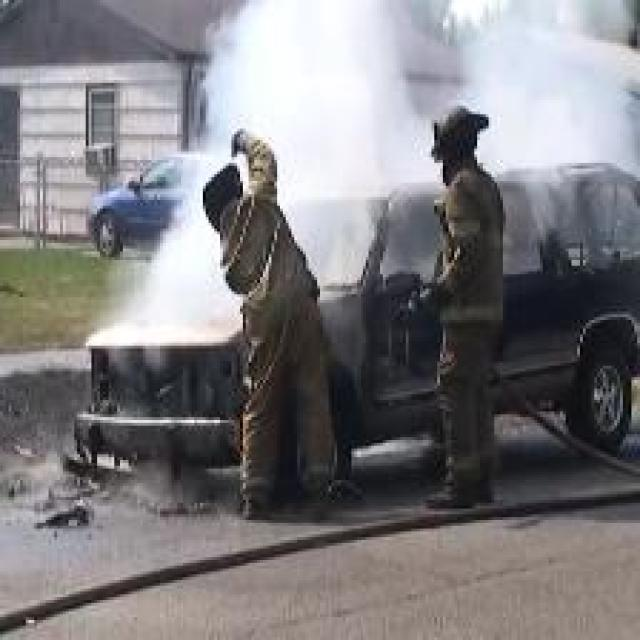other: (268, 52, 356, 155)
